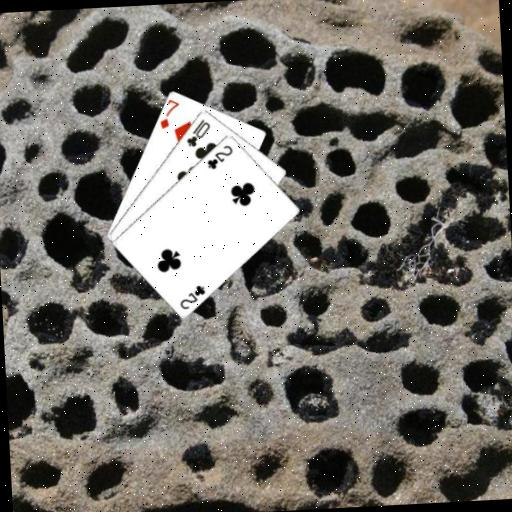10C: (182, 116, 213, 149)
2C: (203, 142, 235, 171), (176, 282, 208, 311)
7D: (155, 96, 182, 131)
